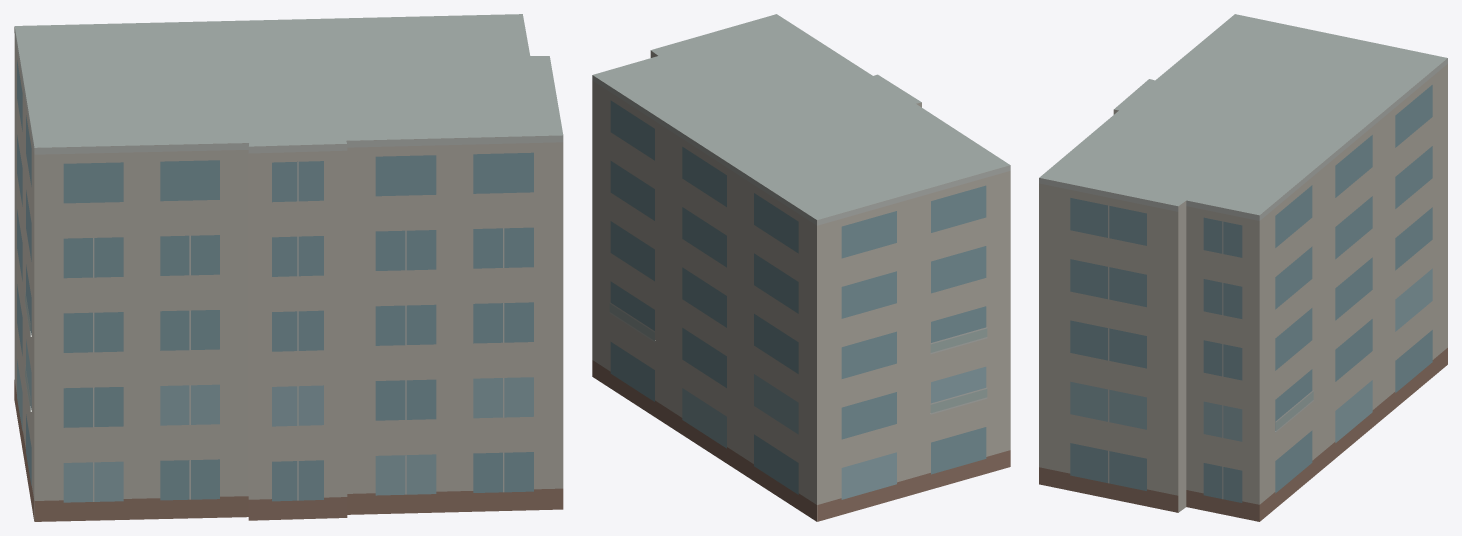
Rendered from survey-upis-32880250.glb.
3 views of the same model, side by side, from view 1: azimuth 30°, elevation 25°; view 2: azimuth 150°, elevation 25°; view 3: azimuth 270°, elevation 25° (orthographic). The views are drawn at different scales.
Visible parts, largest first — view 1: survey-upis-32880250.tmp; view 2: survey-upis-32880250.tmp; view 3: survey-upis-32880250.tmp.
Boxes of the visible parts, x1,y1,x2,y2 form: survey-upis-32880250.tmp: (14,14,563,521); survey-upis-32880250.tmp: (592,14,1010,521); survey-upis-32880250.tmp: (1039,14,1447,521).
Size of the model in its own units: 18.67 by 13.25 by 16.02.
